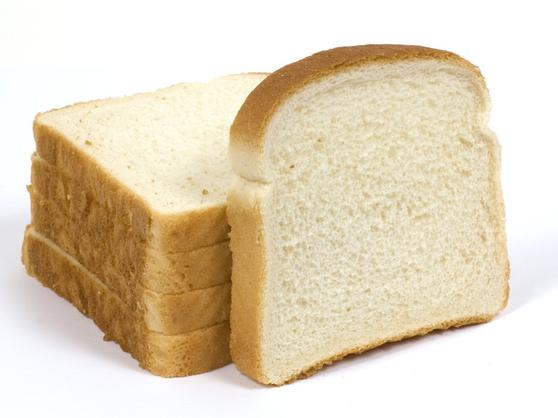white_bread: (32, 87, 298, 374)
